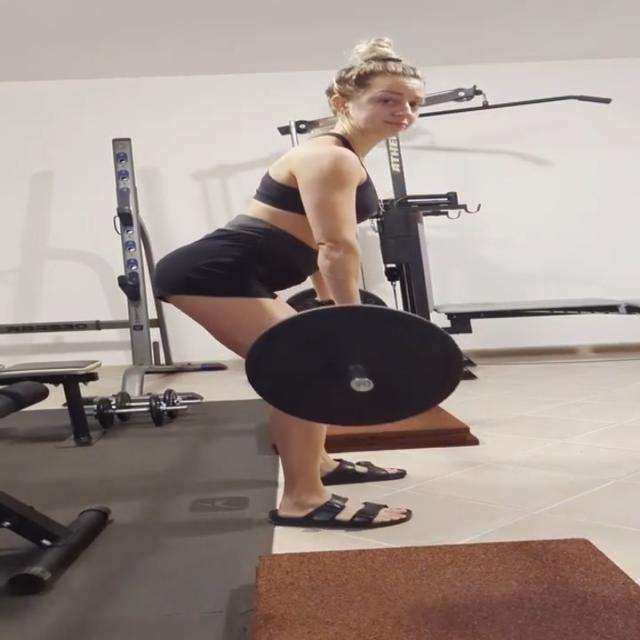barbell: (239, 300, 470, 429)
